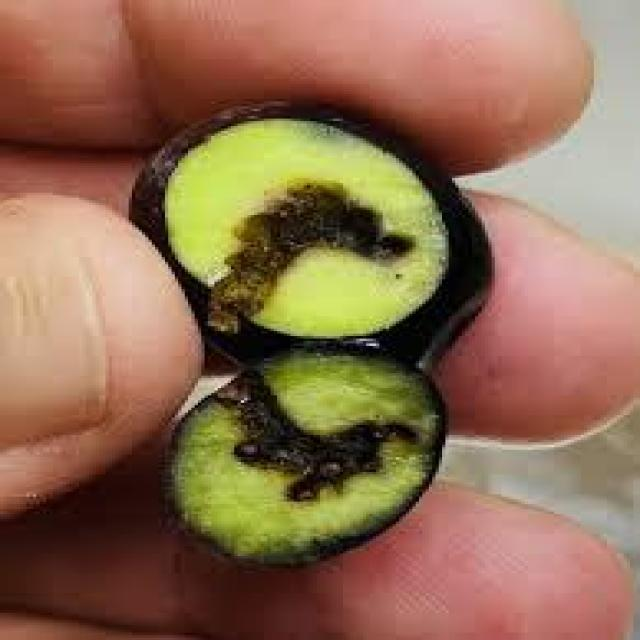Olive Fruit Fly: (129, 104, 488, 563)
